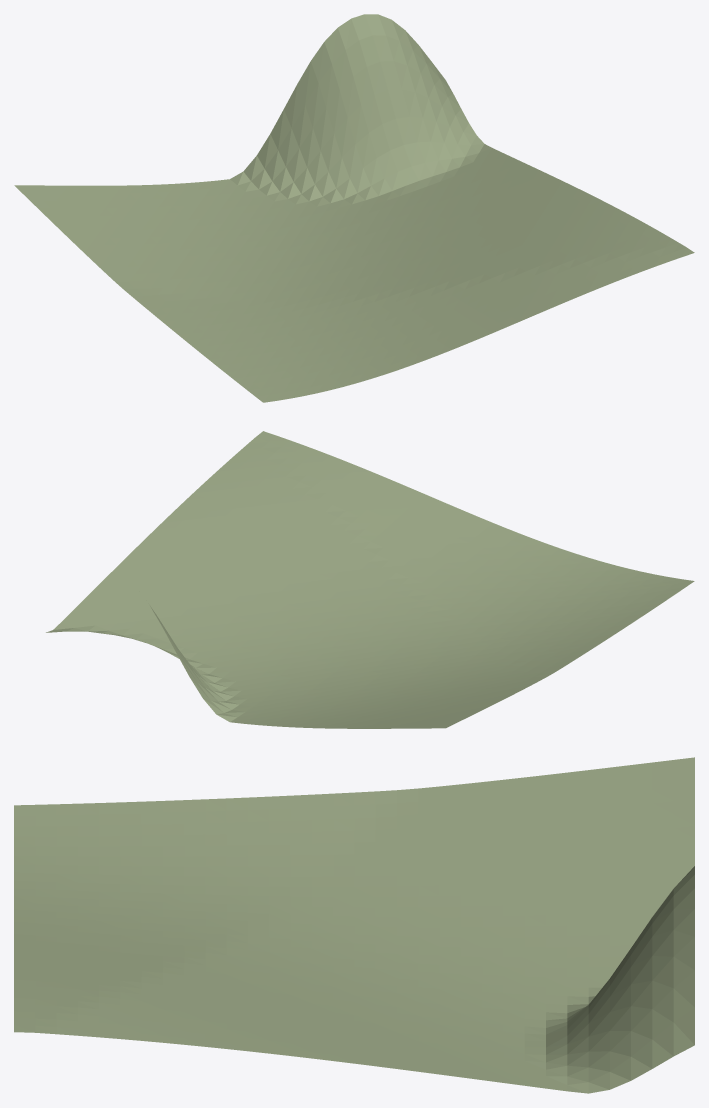
The model's file is expanse-6-26.glb.
3 renders of one model, top to bottom at view 1: azimuth 30°, elevation 25°; view 2: azimuth 150°, elevation 25°; view 3: azimuth 270°, elevation 25°, orthographic. The views are drawn at different scales.
Visible parts, largest first — view 1: expanse-6-26; view 2: expanse-6-26; view 3: expanse-6-26.
Boxes of the visible parts, x1=… form: expanse-6-26: x1=14, y1=14, x2=694, y2=402; expanse-6-26: x1=46, y1=431, x2=694, y2=728; expanse-6-26: x1=14, y1=757, x2=694, y2=1093.
Bounding box in the file's own units: 256 × 76.92 × 256.
